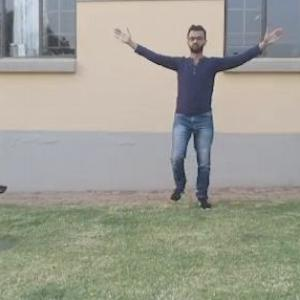takeoff: (111, 19, 280, 210)
